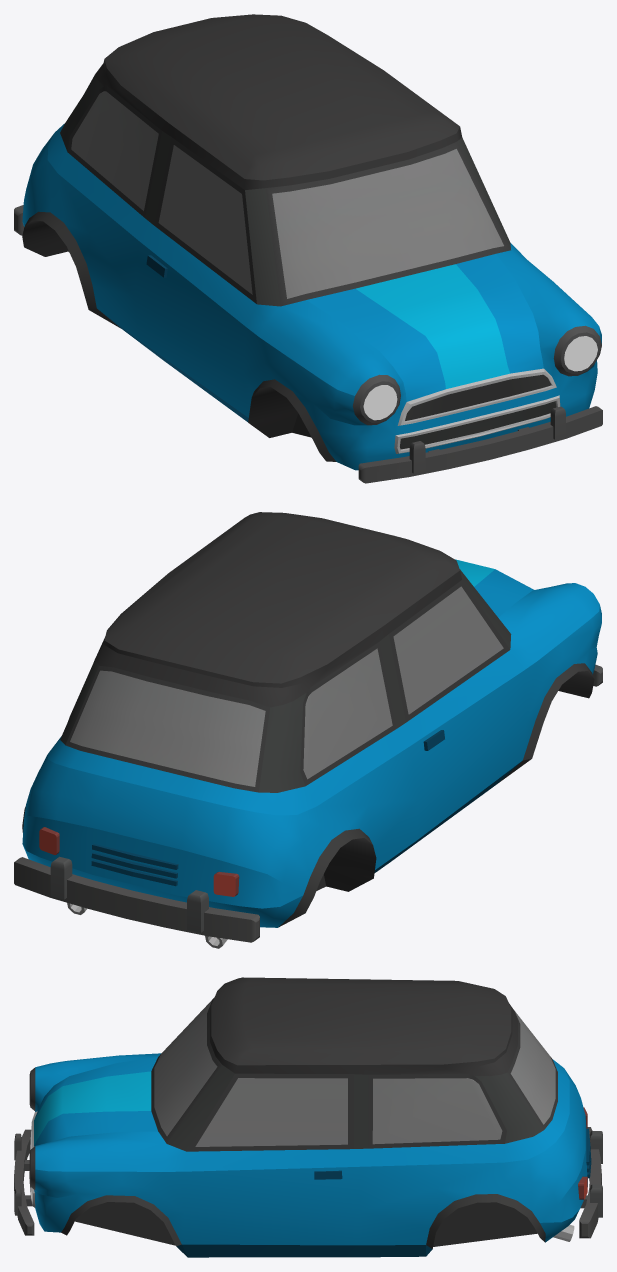
Rendered from MiniEdt.fbx.
3 views of the same model, one above another, from view 1: azimuth 30°, elevation 25°; view 2: azimuth 150°, elevation 25°; view 3: azimuth 270°, elevation 25° (orthographic). The views are drawn at different scales.
Visible parts, largest first — view 1: Body.LOD00; view 2: Body.LOD00; view 3: Body.LOD00.
Boxes of the visible parts, x1=… form: Body.LOD00: x1=14, y1=14, x2=602, y2=483; Body.LOD00: x1=14, y1=512, x2=602, y2=948; Body.LOD00: x1=14, y1=977, x2=602, y2=1257.
Size of what is drawn, in the model's own units: 164 by 134 by 348.
